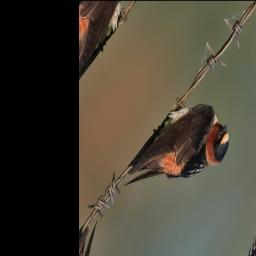Swallow: (116, 74, 238, 246)
